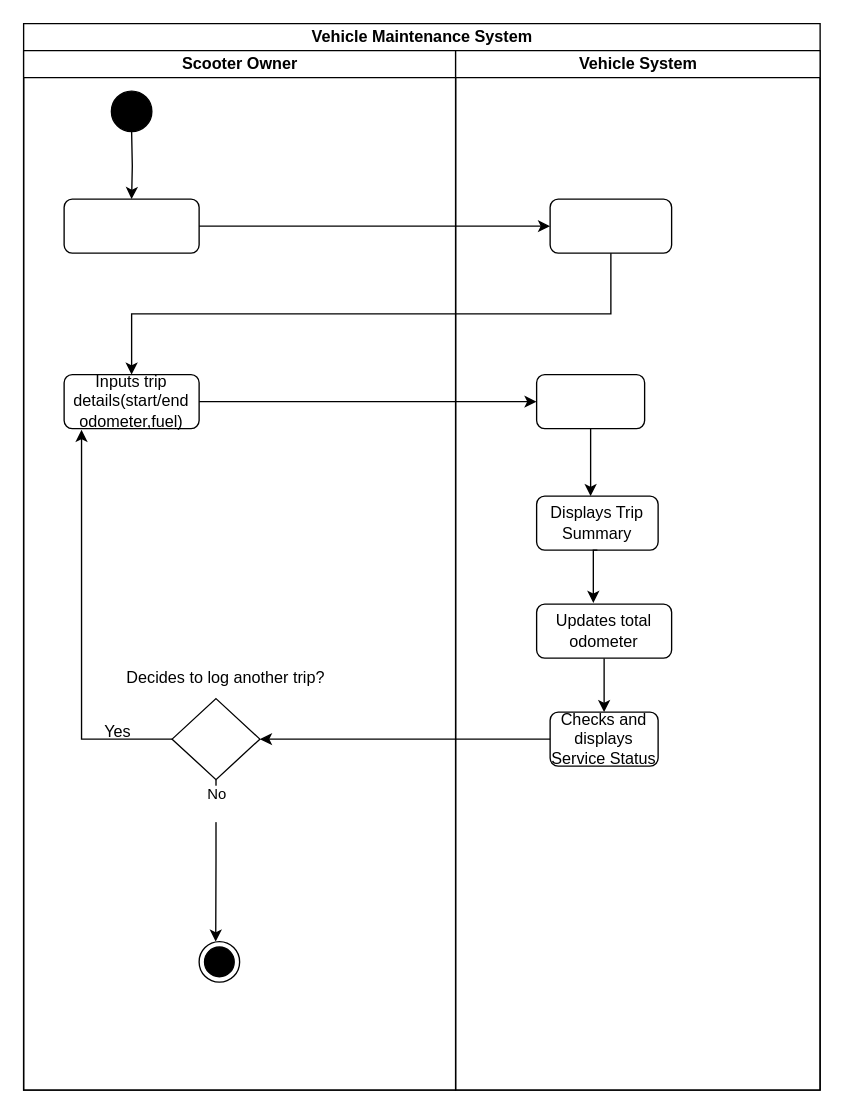
Some shapes in this 844 by 1114 pixel diagram are drawn without their labels. Each missing label, with the centre of its shape:
"Calculates distance and fuel efficiency" goes at point 590,401.
"Create Vehicle Object in memory" goes at point 610,225.
"Input motorcycle details" goes at point 131,225.
